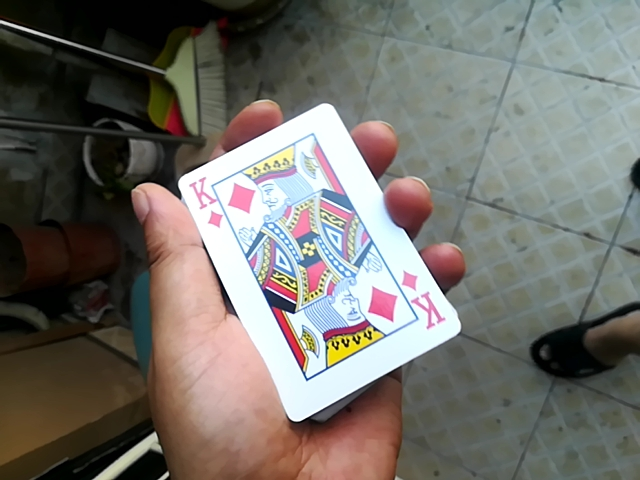fk k: (170, 91, 445, 424)
